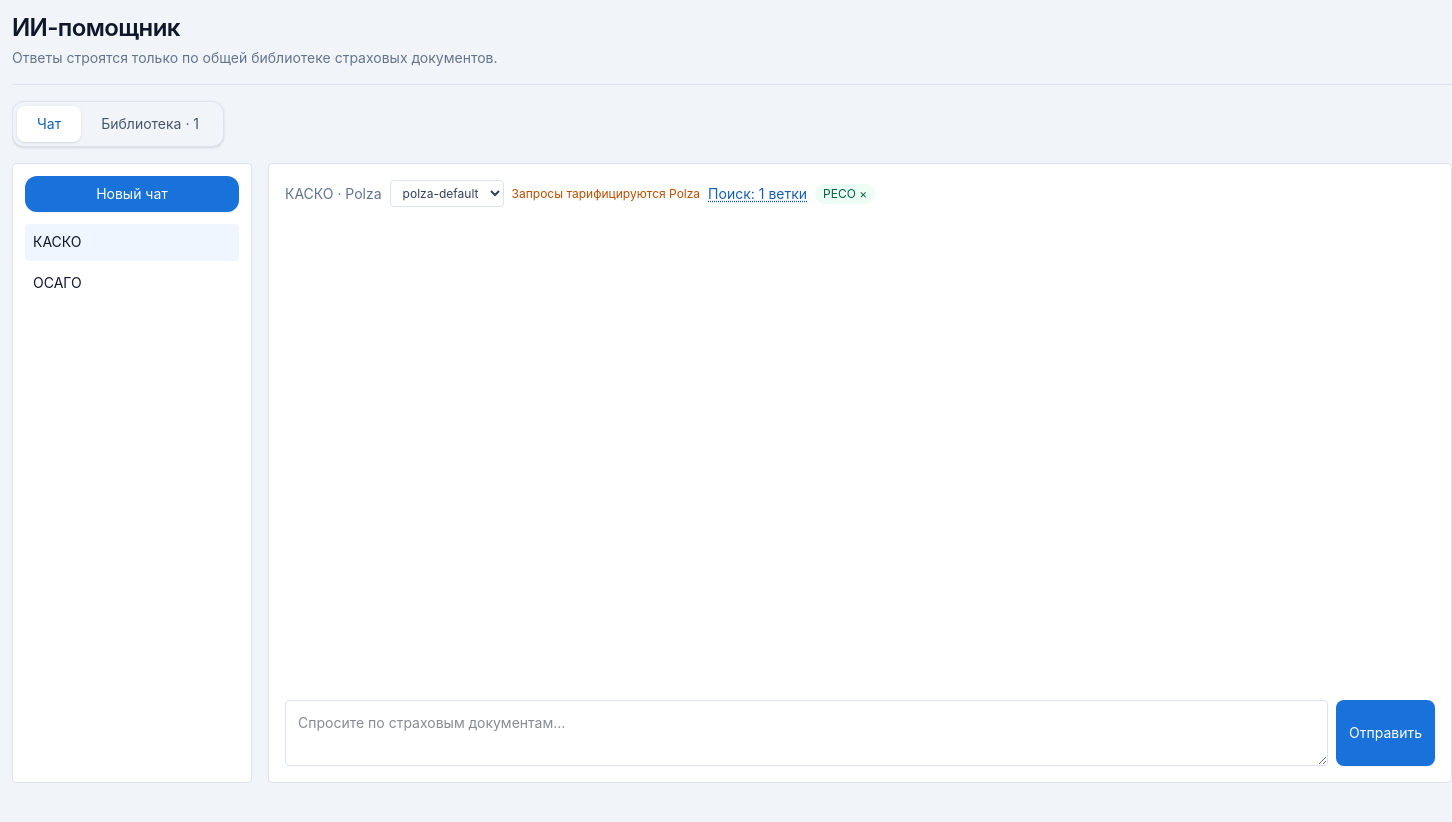
Test: AiAssistantView › keeps the library focused on shared documents, not chat scope settings
Click the button "Библиотека · 1" at [150, 124], box [81,106,219,142]
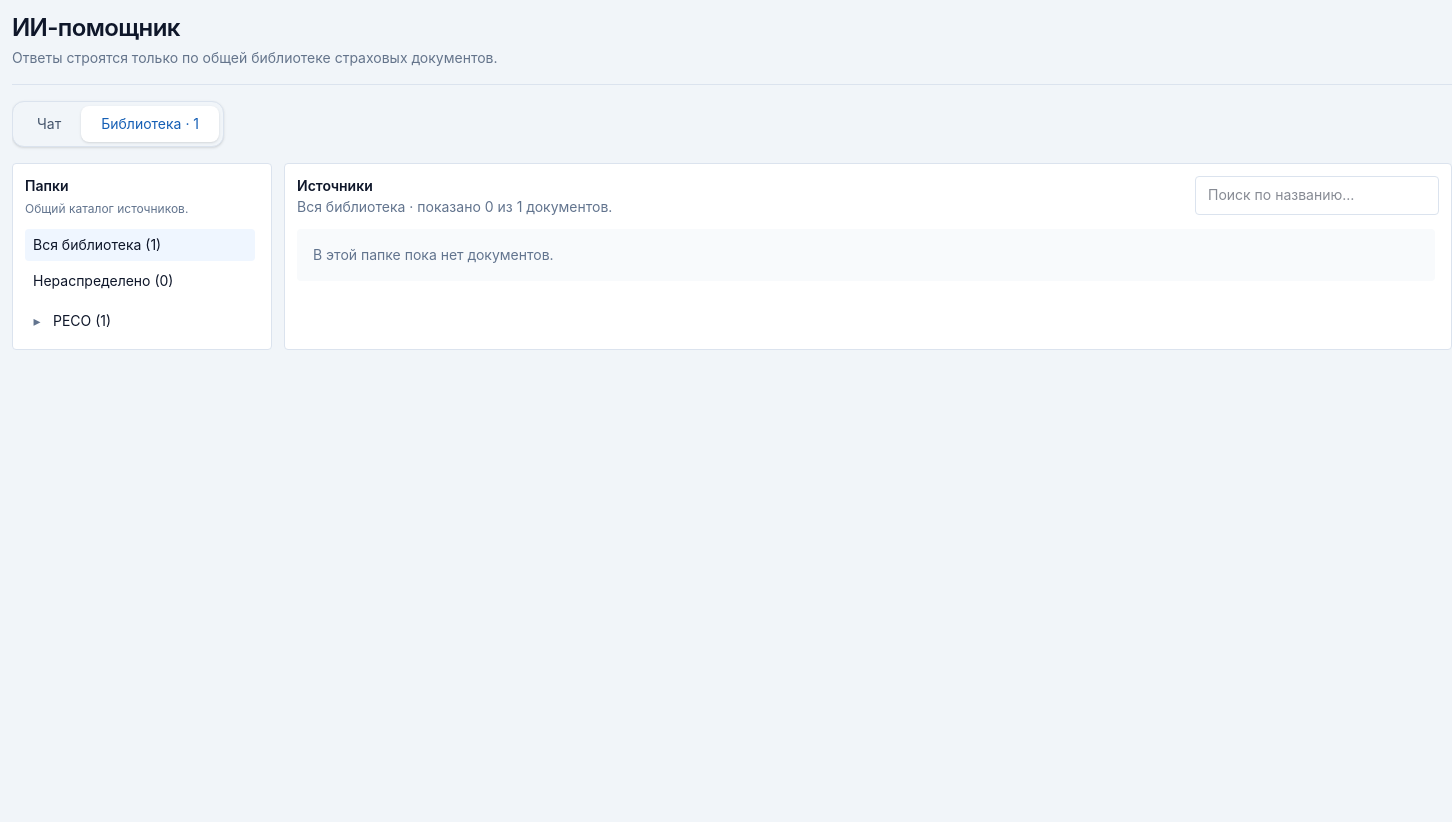
Check: the heading "Источники" is shown, box [297,177,373,194]
